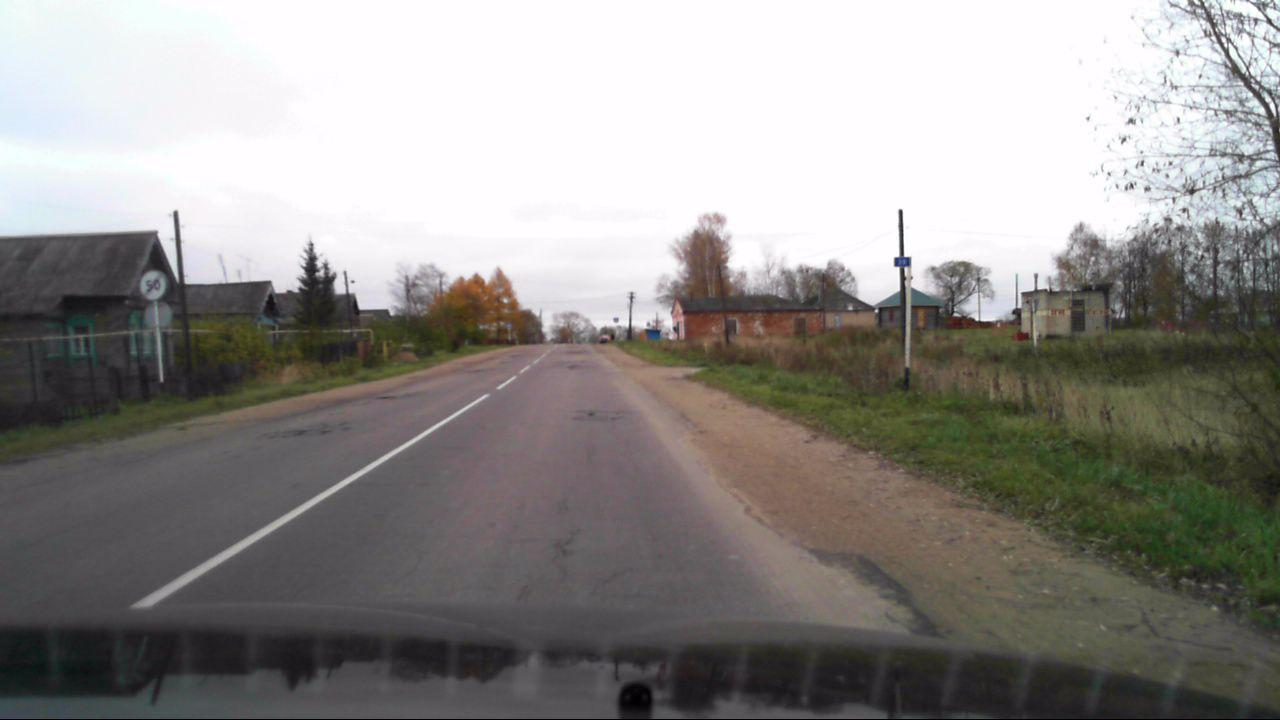3_25: (141, 270, 169, 299)
